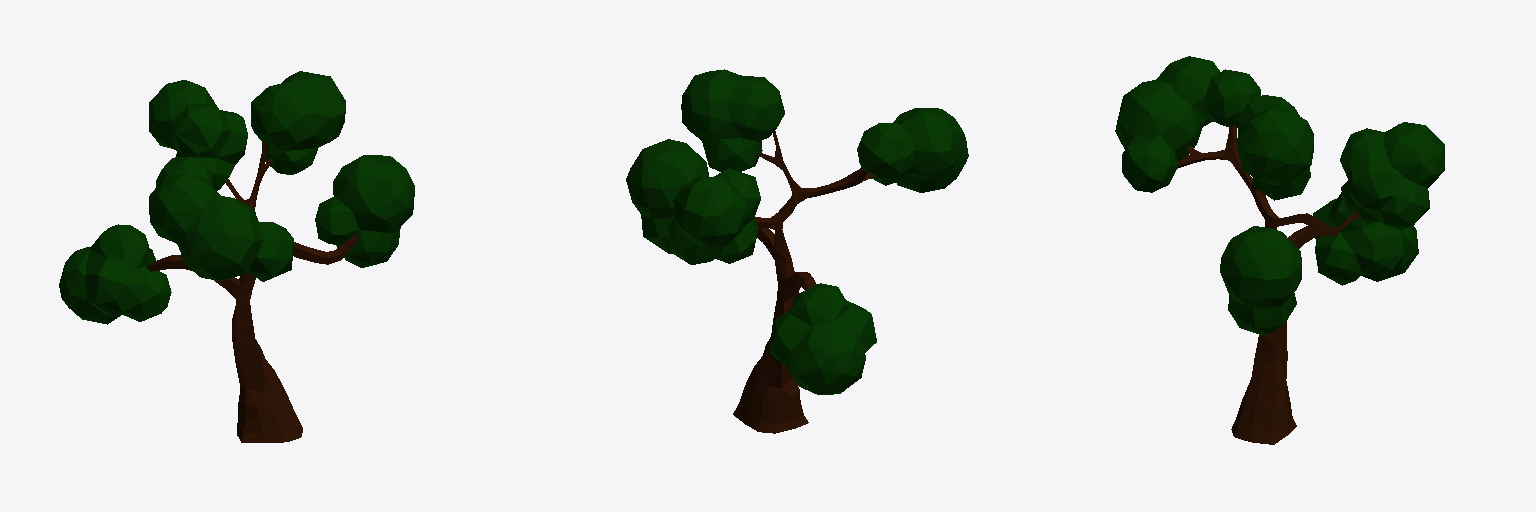
The model's file is 1tree_tri.obj.
The picture shows the model from 3 angles: view 1: azimuth 30°, elevation 25°; view 2: azimuth 150°, elevation 25°; view 3: azimuth 270°, elevation 25°; orthographic projection.
Visible parts, largest first — view 1: LowPoly_Tree_04_lowpoly_tree_05_Mesh.001; view 2: LowPoly_Tree_04_lowpoly_tree_05_Mesh.001; view 3: LowPoly_Tree_04_lowpoly_tree_05_Mesh.001.
Part boxes in pixels (x1,y1,x2,y2): LowPoly_Tree_04_lowpoly_tree_05_Mesh.001: (59,71,414,442); LowPoly_Tree_04_lowpoly_tree_05_Mesh.001: (626,69,968,433); LowPoly_Tree_04_lowpoly_tree_05_Mesh.001: (1115,56,1444,444).
Bounding box in the file's own units: 1.27 × 1.43 × 1.25.